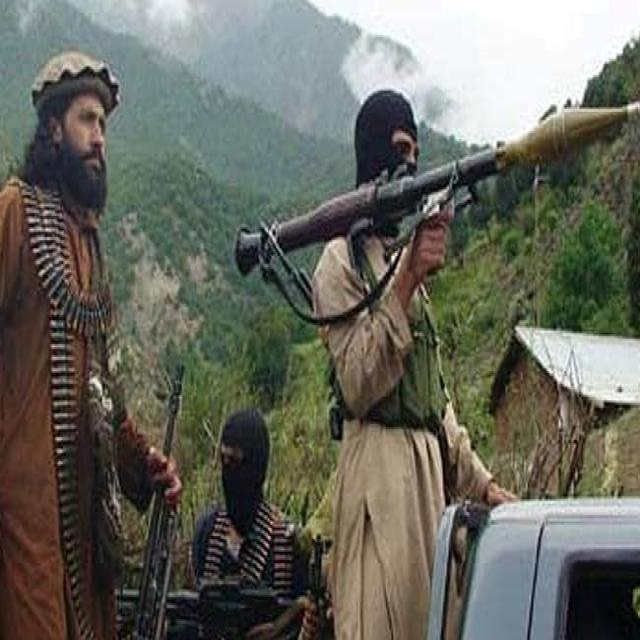bazooka: (227, 97, 640, 324)
